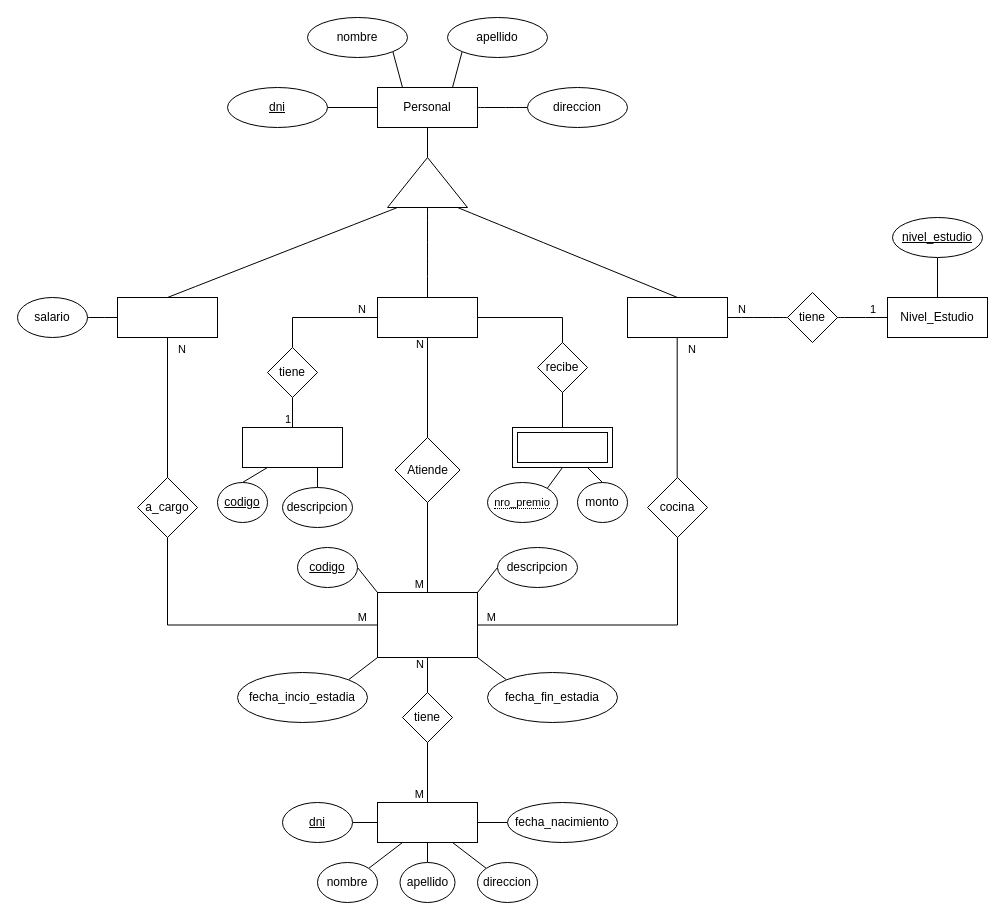
Image size: 1005x920. Some labels were removed from this diagram. Each missing label, with the box of its shape:
Administrativo: (116, 296, 218, 338)
Cliente: (376, 802, 478, 842)
Especialidad: (242, 426, 342, 468)
Estadia: (376, 592, 478, 658)
Gastronomico: (626, 296, 728, 338)
is_a: (386, 156, 468, 208)
Maestranza: (376, 296, 478, 338)
Premio: (512, 426, 612, 468)
